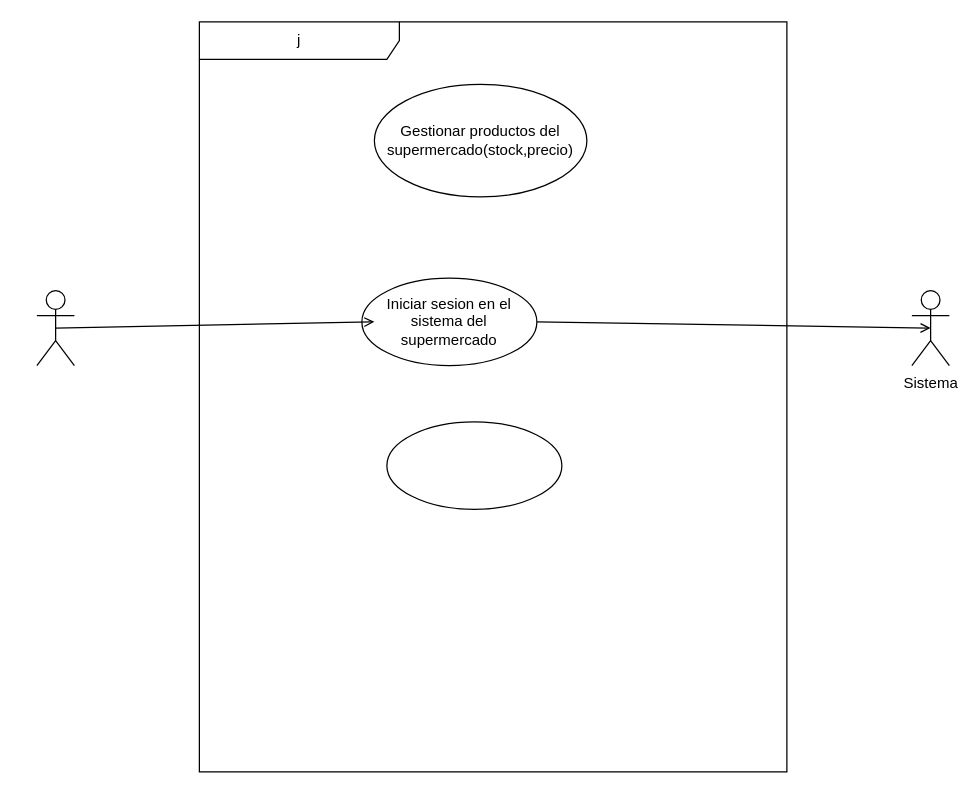
Some shapes in this 979 by 794 pixel diagram are drawn without their labels. Each missing label, with the box of its shape:
Empleado: (36, 289, 74, 366)
Vender productos del supermercado: (386, 421, 562, 509)
